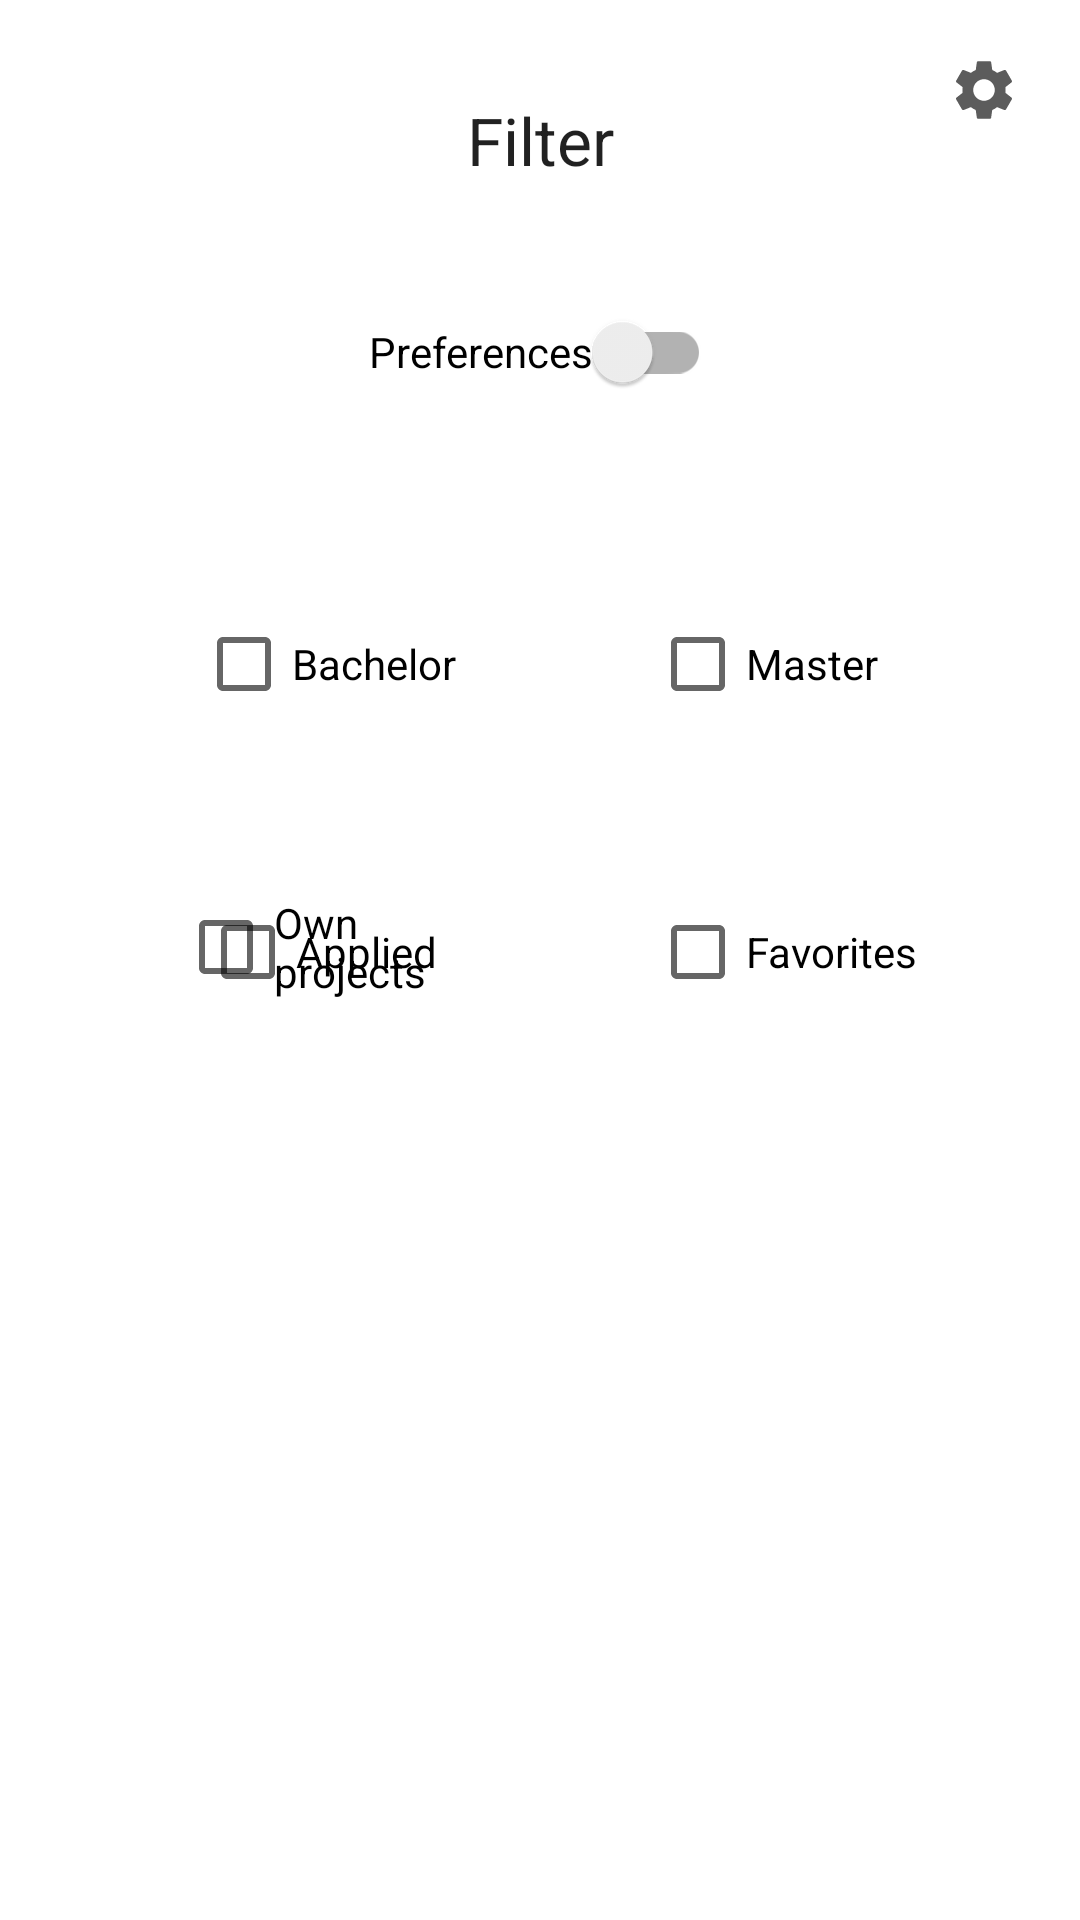

Where to tap for icons on this 1080x1920 app screen, as (x,y):
filter settings icon: (984,90)
